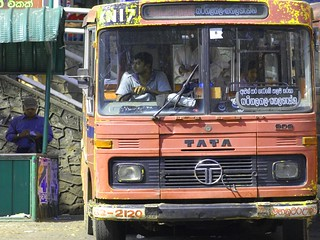bus: (81, 1, 320, 240)
